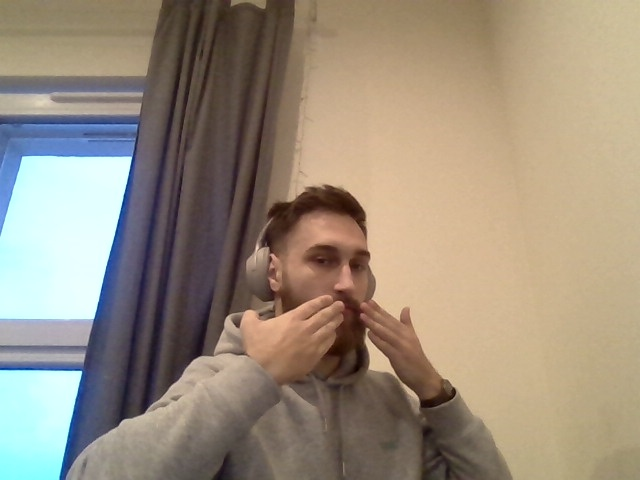ThankYou: (241, 295, 424, 390)
